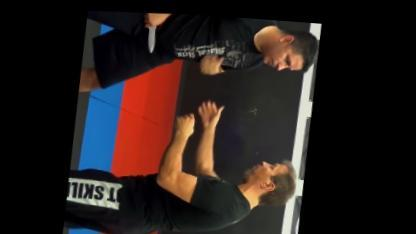knife: (139, 10, 162, 54)
